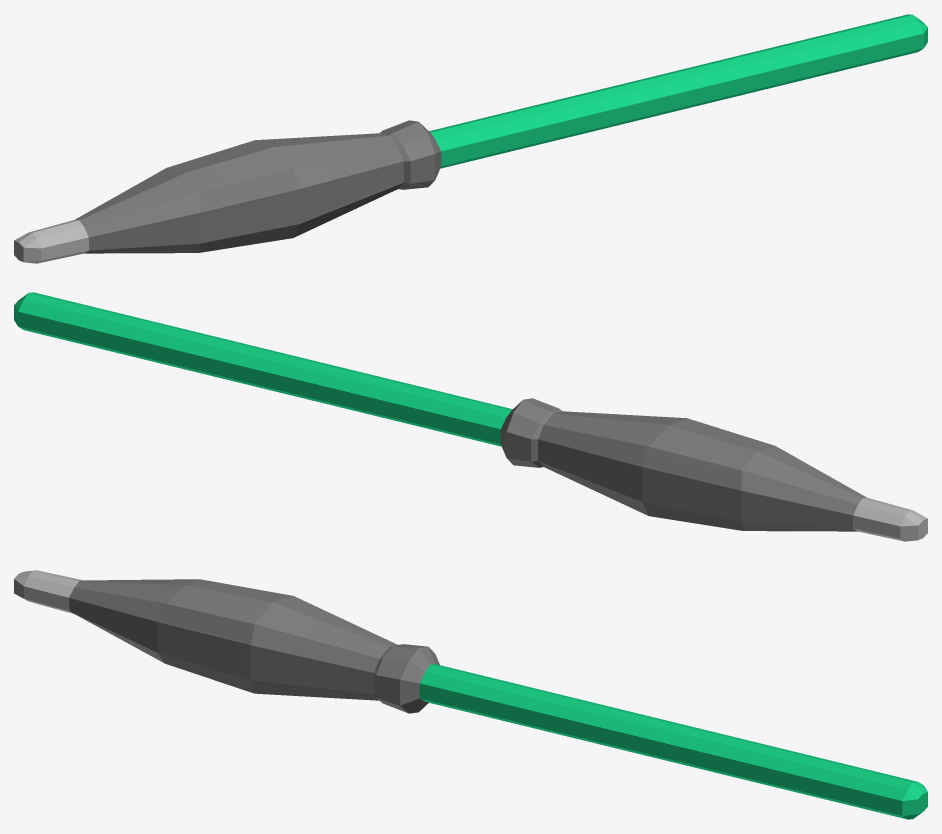
File: Rocket.fbx
The picture shows the model from 3 angles, top to bottom: view 1: azimuth 30°, elevation 25°; view 2: azimuth 150°, elevation 25°; view 3: azimuth 330°, elevation 25°; orthographic projection.
Parts seen in each view (by area): view 1: Cube.010_Cube.011; view 2: Cube.010_Cube.011; view 3: Cube.010_Cube.011.
Part boxes in pixels (x1=…): Cube.010_Cube.011: x1=14, y1=14, x2=927, y2=263; Cube.010_Cube.011: x1=14, y1=292, x2=927, y2=541; Cube.010_Cube.011: x1=14, y1=570, x2=927, y2=819.
Bounding box in the file's own units: 787 × 70.21 × 73.19.
